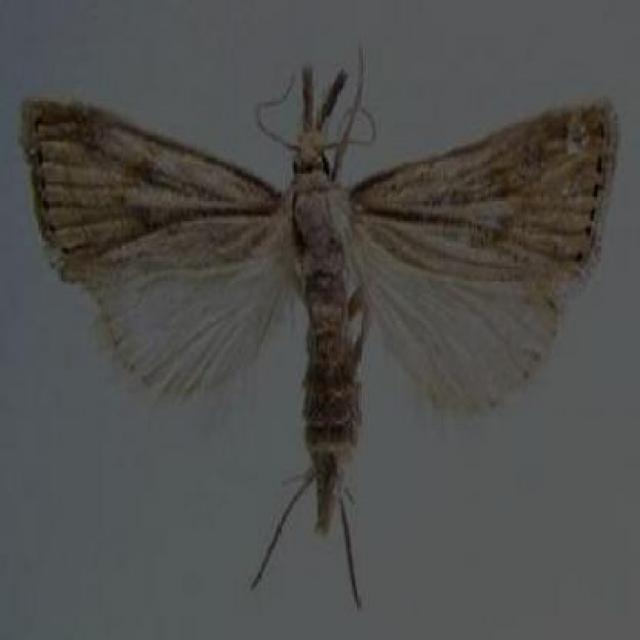stem-borer: (20, 40, 623, 614)
